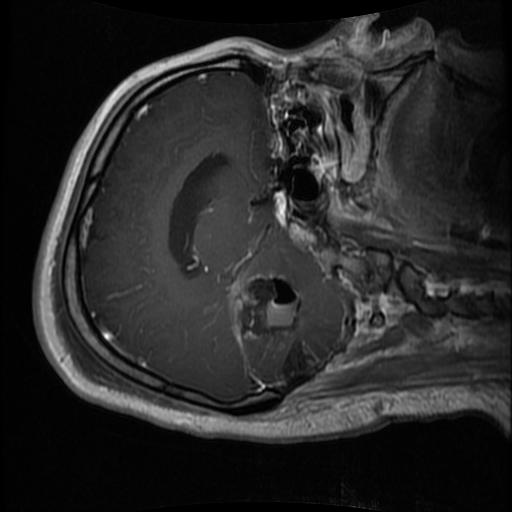glioma: (226, 278, 303, 342)
